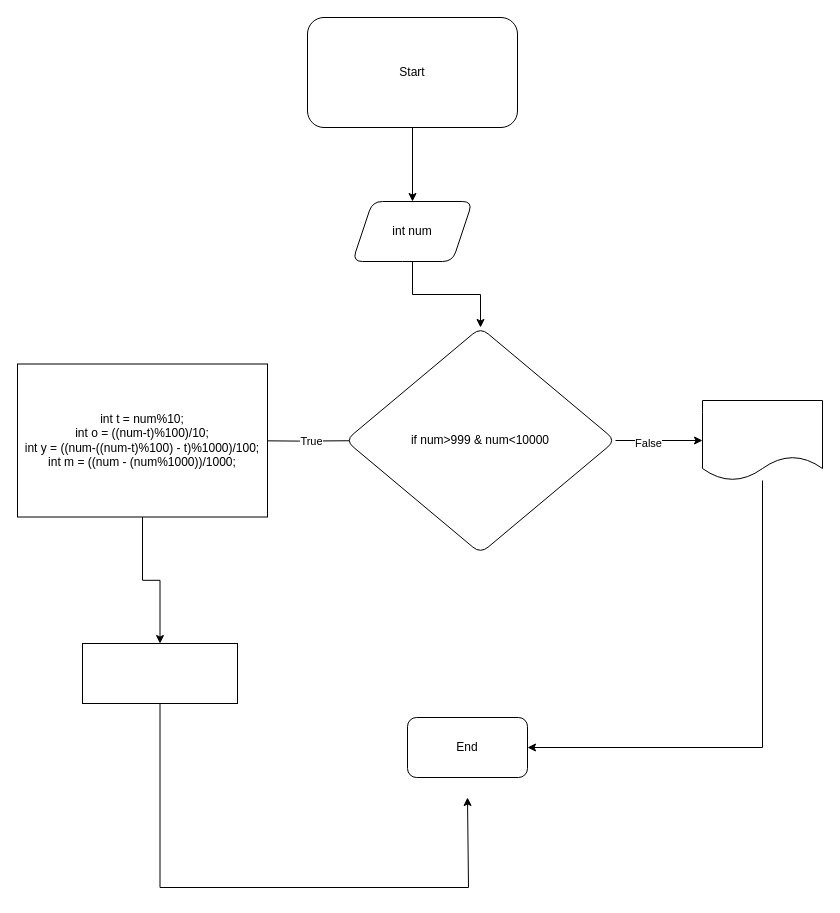
The diagram is 840 pixels wide and 913 high, and some of its shapes have lost their labels. Each missing label, with the centre of its shape:
"invalid value": point 762,440
int sum = (t+o+y+m)/4: point 160,673
